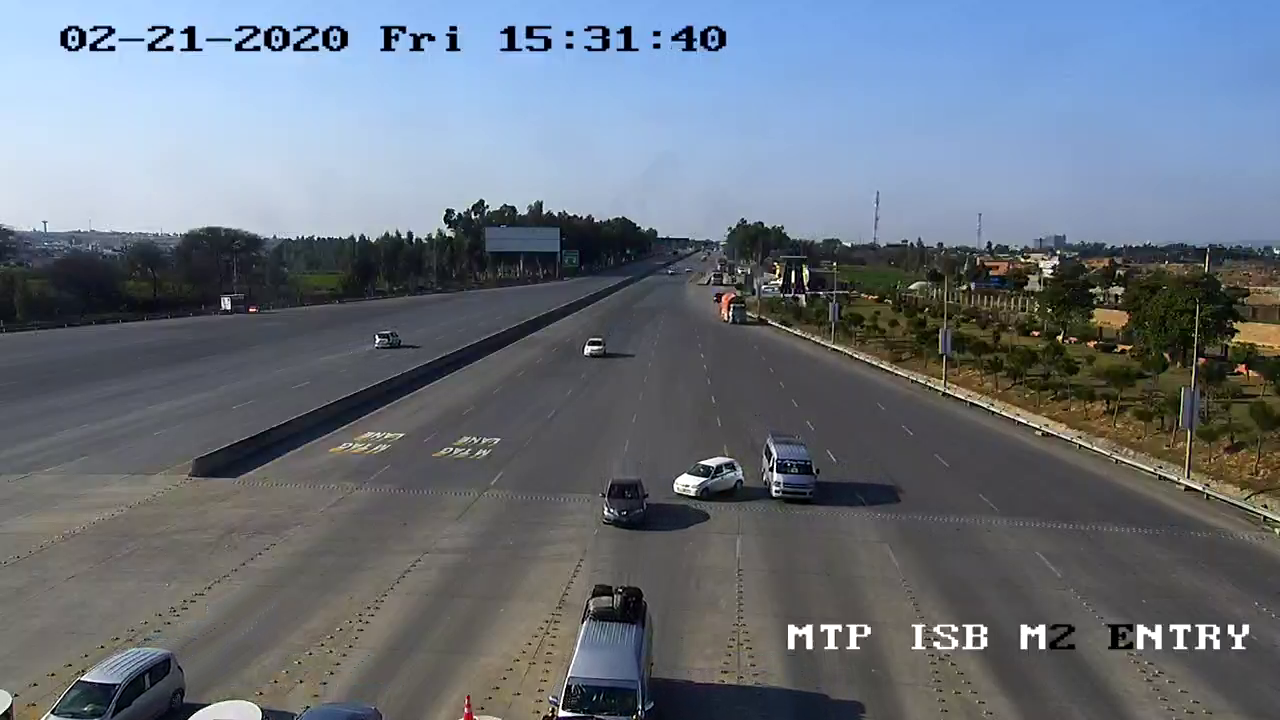f1: (589, 461, 668, 537), (666, 443, 748, 512)
f2: (751, 426, 828, 517)
